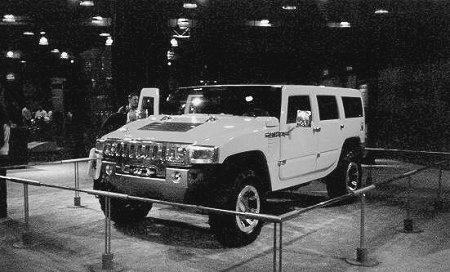car: (86, 81, 371, 252)
